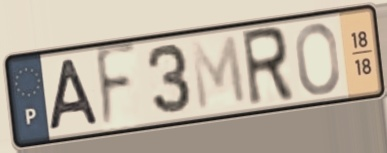3: (144, 42, 194, 118)
A: (46, 56, 102, 134)
F: (93, 40, 140, 134)
M: (187, 32, 250, 115)
O: (293, 21, 343, 98)
R: (238, 24, 297, 111)
